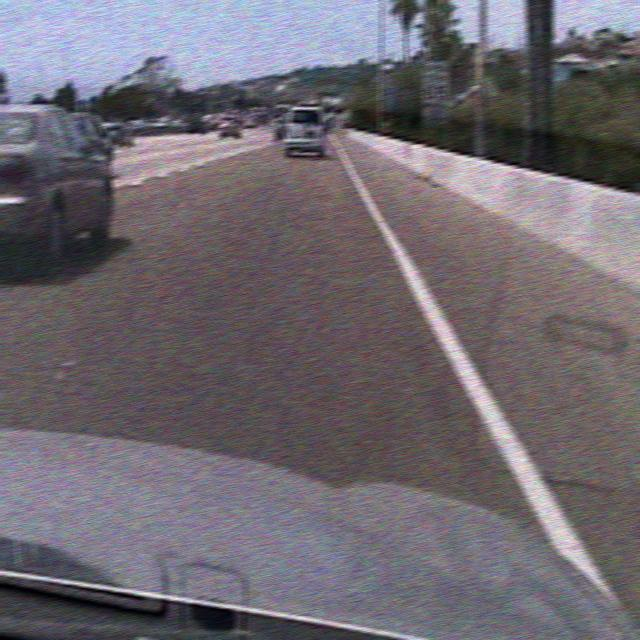speedLimit65: (420, 58, 450, 106)
